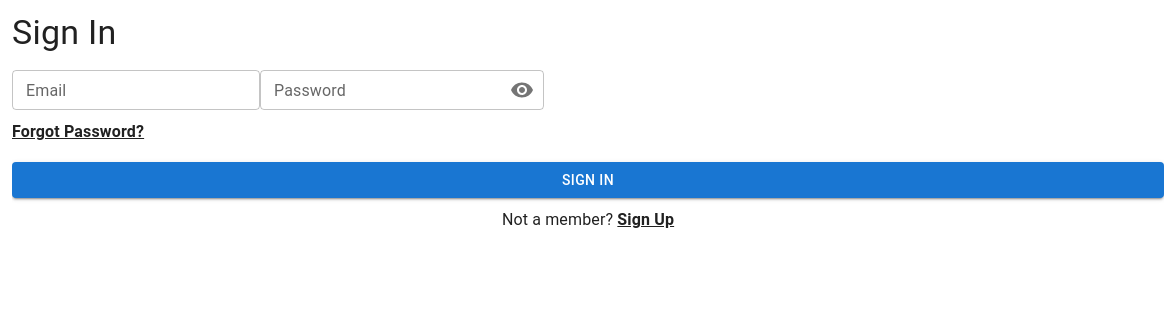
it: SignIn › displays "All fields are required." error message when attempting to sign in with one or more blank input(s)
This screenshot has width=1176, height=310.
Click the button with test id "sign-in-button": (588, 180) x1=12 y1=162 x2=1164 y2=198
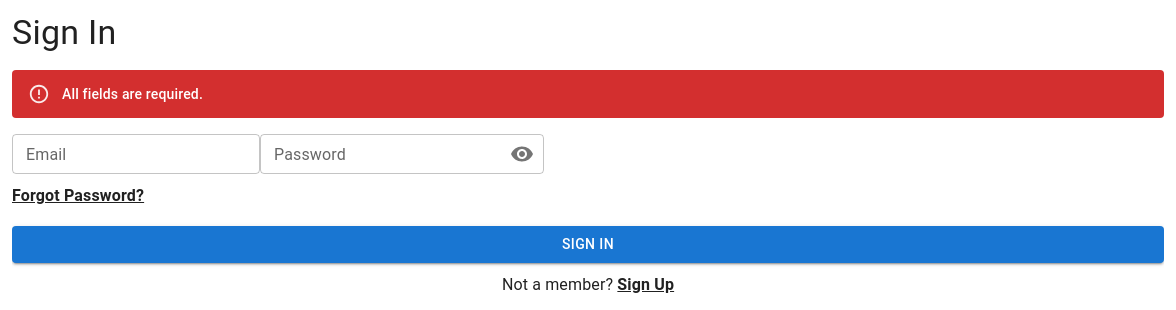
Now the text "All fields are required." is shown, box x1=62 y1=86 x2=203 y2=102
